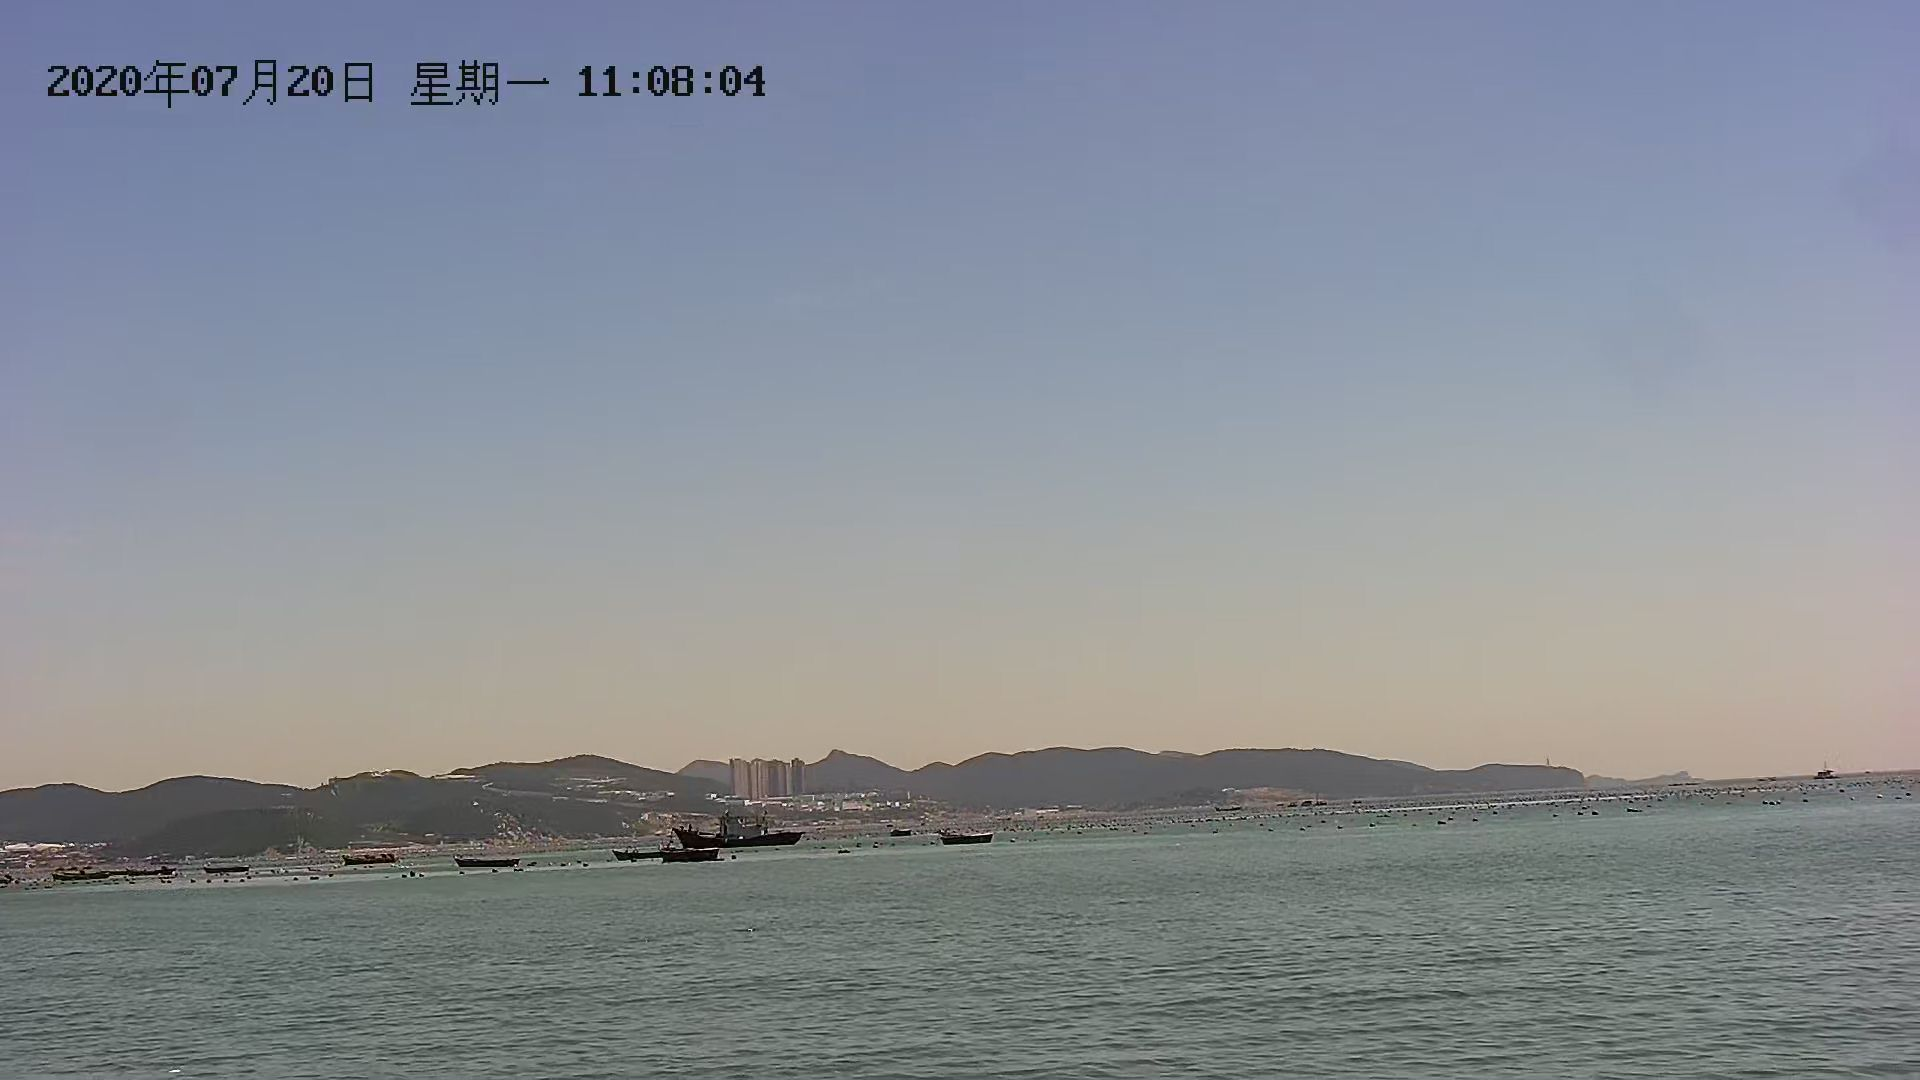boat: (680, 820, 796, 849), (451, 851, 524, 874), (932, 831, 1010, 851), (640, 851, 731, 862)
